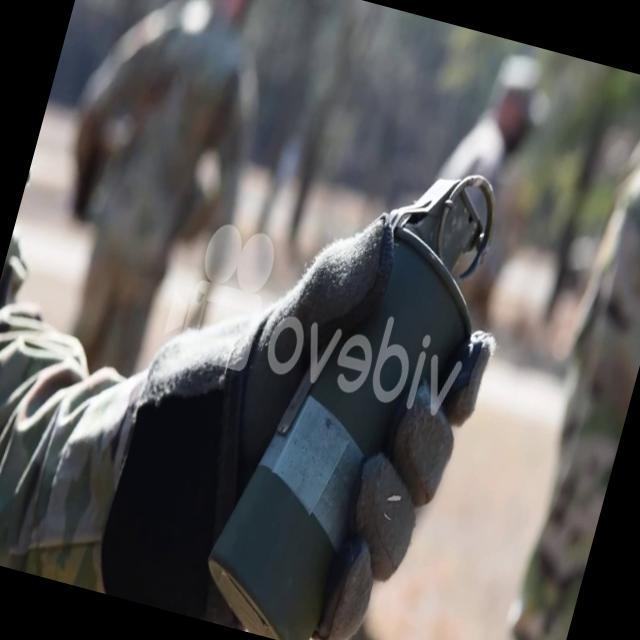grenade: (187, 137, 525, 640)
